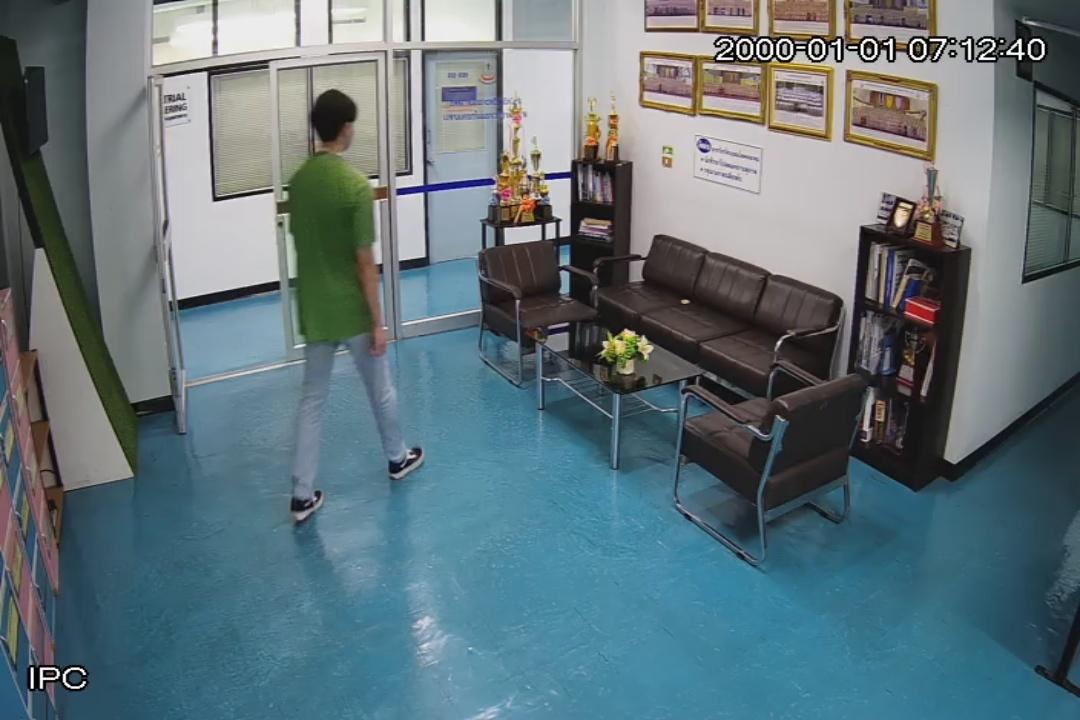normal: (276, 82, 424, 528)
